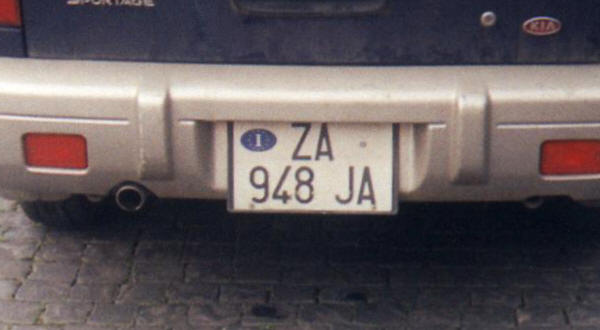license_plate: (229, 120, 396, 214)
